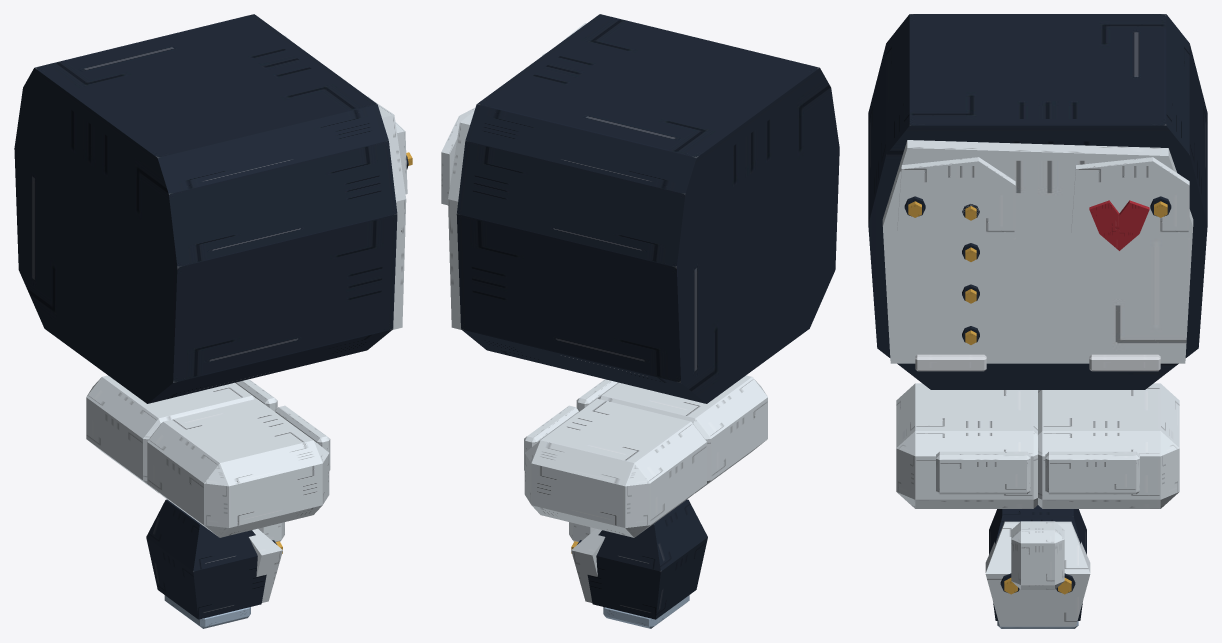
Rendered from fencer.glb.
3 views of the same model, side by side, from view 1: azimuth 30°, elevation 25°; view 2: azimuth 150°, elevation 25°; view 3: azimuth 270°, elevation 25° (orthographic). The views are drawn at different scales.
Visible parts, largest first — view 1: chest, arm_R, forearm_L, arm_L; view 2: chest, arm_L, forearm_L, arm_R; view 3: chest, arm_L, arm_R, forearm_L.
Boxes of the visible parts, left/top/right/bottom form: chest: left=14, top=14, right=412, bottom=403; arm_R: left=147, top=398, right=330, bottom=537; forearm_L: left=146, top=499, right=282, bottom=628; arm_L: left=86, top=375, right=284, bottom=541; chest: left=441, top=14, right=839, bottom=403; arm_L: left=524, top=398, right=706, bottom=541; forearm_L: left=571, top=499, right=707, bottom=628; arm_R: left=576, top=375, right=767, bottom=492; chest: left=868, top=14, right=1207, bottom=389; arm_L: left=1011, top=383, right=1179, bottom=589; arm_R: left=896, top=383, right=1037, bottom=508; forearm_L: left=985, top=505, right=1090, bottom=628.
Size of the model in its own units: 0.274 by 0.5405 by 0.304.
6 materials, 6 textured.
